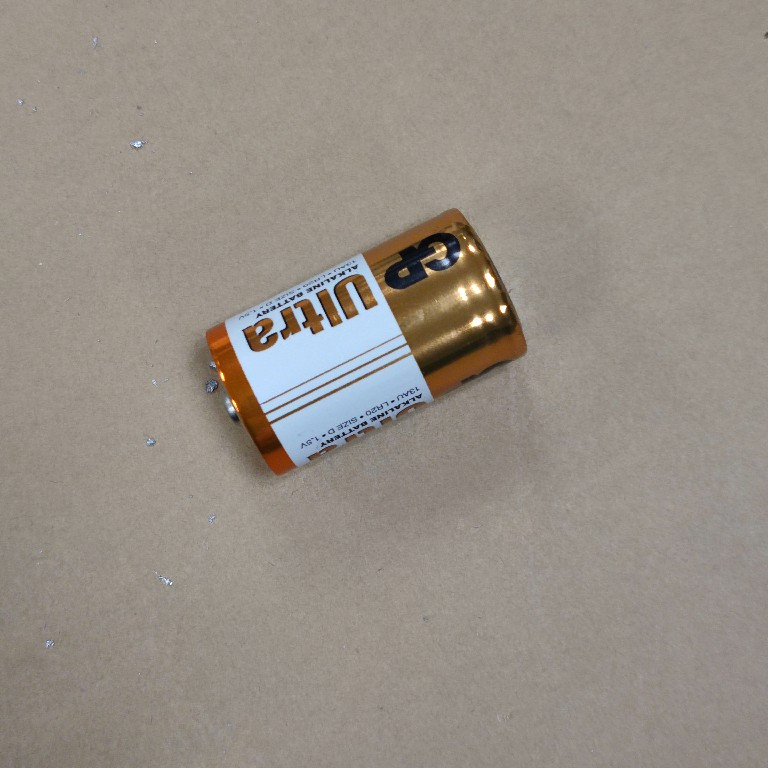charge: (198, 204, 533, 479)
